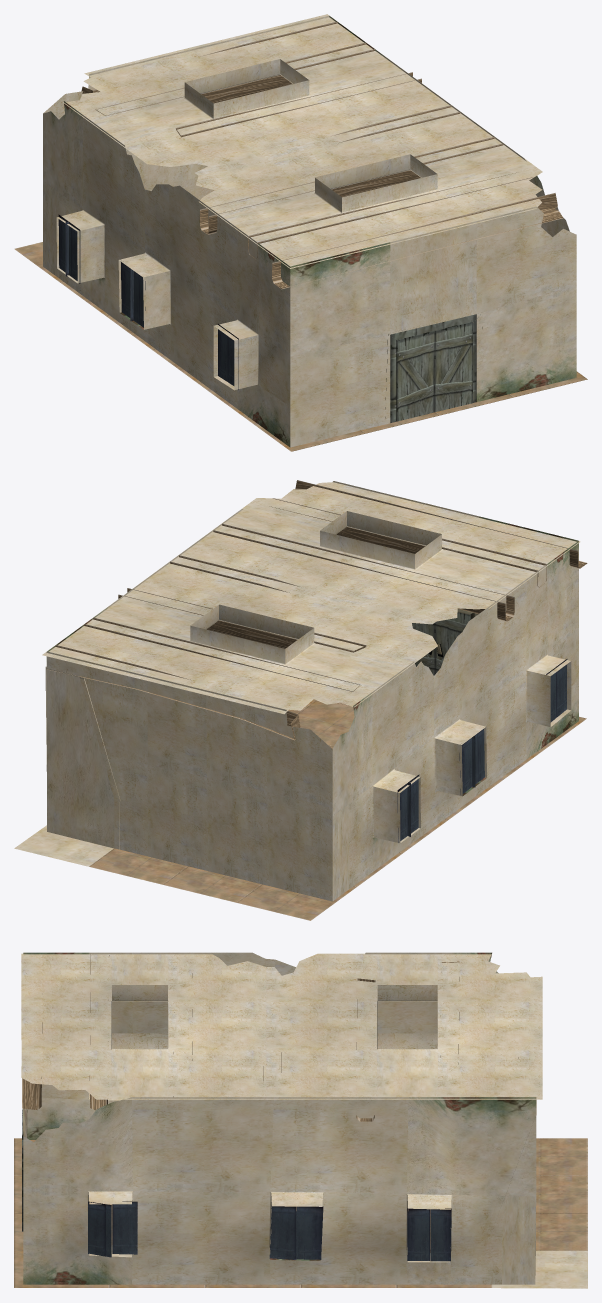
Rendered from pir_m_int_spn_npc_destroyed.fbx.
The picture shows the model from 3 angles, top to bottom: view 1: azimuth 30°, elevation 25°; view 2: azimuth 150°, elevation 25°; view 3: azimuth 270°, elevation 25°; orthographic projection. The views are drawn at different scales.
Visible parts, largest first — view 1: Ceiling, npc_house_wall5, Wall5, door_1_right, door1, floor_interior, npc_house_wall, Beam11, Beam8, door_hole, Beam13, Beam12 (+5 smaller); view 2: Ceiling, npc_house_wall, Wall5, npc_house_wall3, floor_interior, FireBoxFloor, Beam12, Beam11, Beam9, Beam8, door_1_right, Beam1 (+3 smaller); view 3: Wall1, Ceiling, floor_interior, Wall5, FireBoxFloor, Shutter2, Shutter12, Shutter3, Shutter4, Shutter11, Shutter6, Beam13.
Part boxes in pixels (x1=…): Ceiling: x1=63, y1=14, x2=542, y2=268; npc_house_wall5: x1=290, y1=206, x2=576, y2=447; Wall5: x1=43, y1=101, x2=290, y2=447; door_1_right: x1=396, y1=330, x2=435, y2=421; door1: x1=434, y1=321, x2=472, y2=412; floor_interior: x1=14, y1=242, x2=587, y2=451; npc_house_wall: x1=43, y1=16, x2=329, y2=199; Beam11: x1=200, y1=137, x2=503, y2=234; Beam8: x1=95, y1=42, x2=374, y2=115; door_hole: x1=390, y1=314, x2=476, y2=422; Beam13: x1=272, y1=193, x2=563, y2=289; Beam12: x1=248, y1=172, x2=533, y2=258; Ceiling: x1=42, y1=482, x2=580, y2=714; npc_house_wall: x1=47, y1=651, x2=332, y2=901; Wall5: x1=332, y1=541, x2=578, y2=900; npc_house_wall3: x1=45, y1=666, x2=114, y2=848; floor_interior: x1=89, y1=699, x2=586, y2=920; FireBoxFloor: x1=14, y1=825, x2=113, y2=866; Beam12: x1=271, y1=498, x2=546, y2=587; Beam11: x1=213, y1=523, x2=514, y2=621; Beam9: x1=118, y1=588, x2=366, y2=652; Beam8: x1=84, y1=617, x2=359, y2=691; door_1_right: x1=435, y1=612, x2=470, y2=673; Beam1: x1=47, y1=645, x2=300, y2=740; Wall1: x1=23, y1=1097, x2=536, y2=1284; Ceiling: x1=21, y1=953, x2=542, y2=1099; floor_interior: x1=14, y1=1138, x2=587, y2=1287; Wall5: x1=23, y1=952, x2=498, y2=1139; FireBoxFloor: x1=492, y1=1250, x2=587, y2=1288; Shutter2: x1=296, y1=1206, x2=323, y2=1259; Shutter12: x1=269, y1=1205, x2=296, y2=1259; Shutter3: x1=112, y1=1201, x2=137, y2=1254; Shutter4: x1=88, y1=1201, x2=111, y2=1257; Shutter11: x1=407, y1=1208, x2=429, y2=1260; Shutter6: x1=430, y1=1208, x2=451, y2=1261; Beam13: x1=22, y1=1022, x2=42, y2=1109.
Size of the model in its own units: 4776 by 2633 by 6708.
5 materials, 5 textured.
